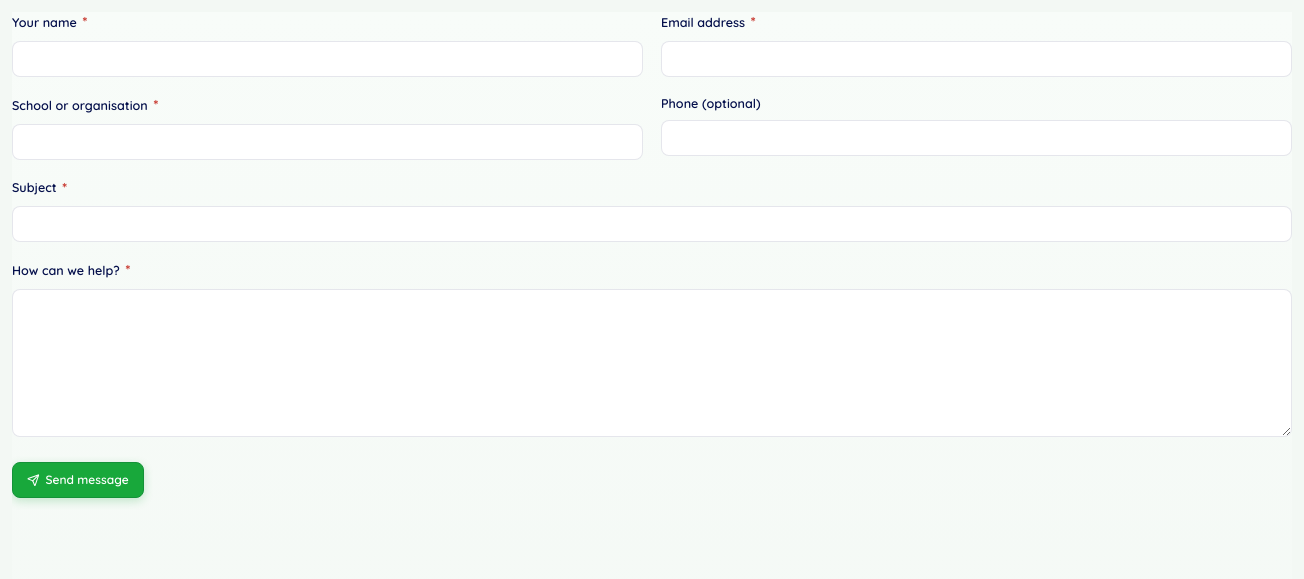
Test: ContactForm › submits entered values and resets after success
This screenshot has width=1304, height=579.
Type "Aroha Rangi" into the field labelled "Your name". click: (328, 59)
box: [12,41,643,77]
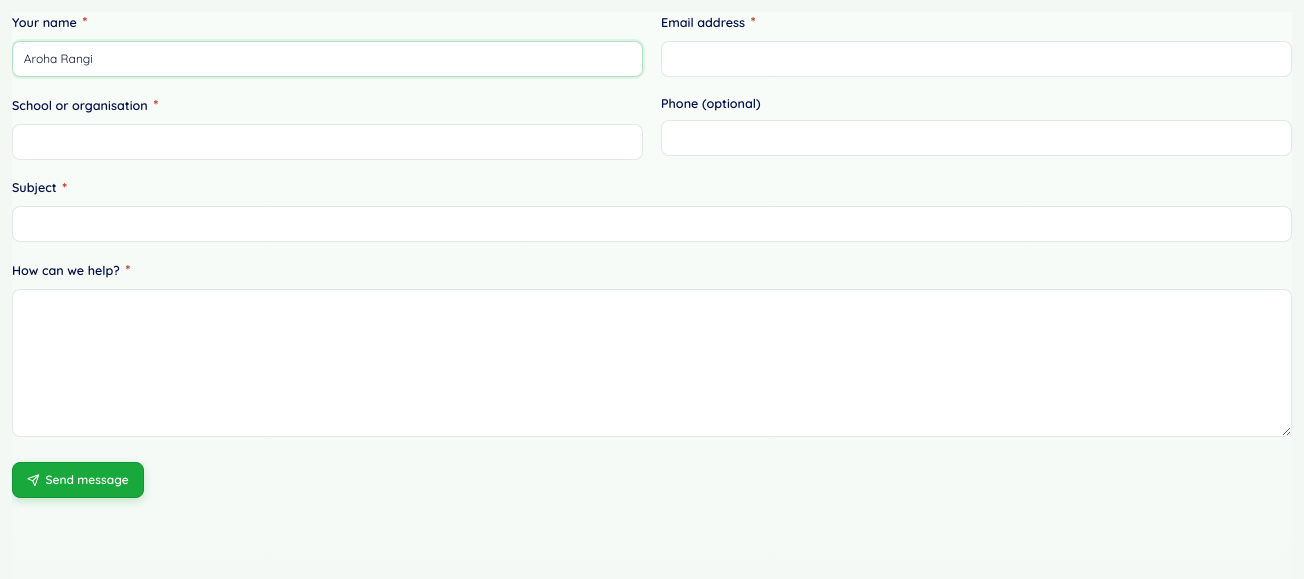
Type "aroha@example.nz" into the field labelled "Email address". click: (976, 59)
box: [661,41,1292,77]
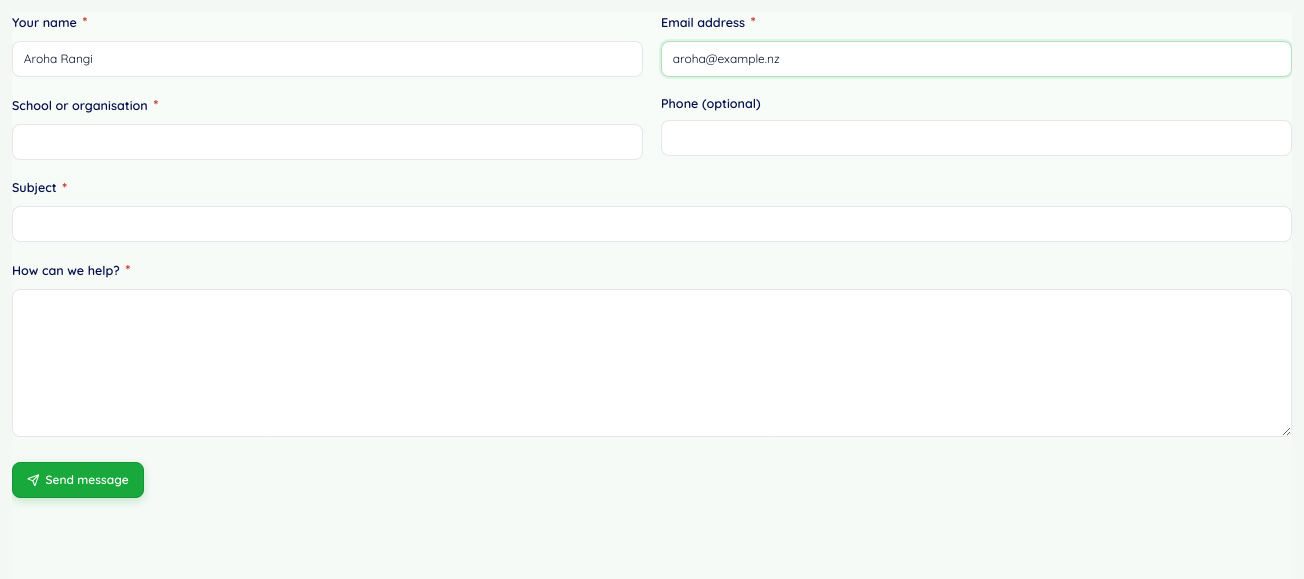
Type "Harbour College" into the field labelled "School or organisation". click: (328, 142)
box: [12,124,643,160]
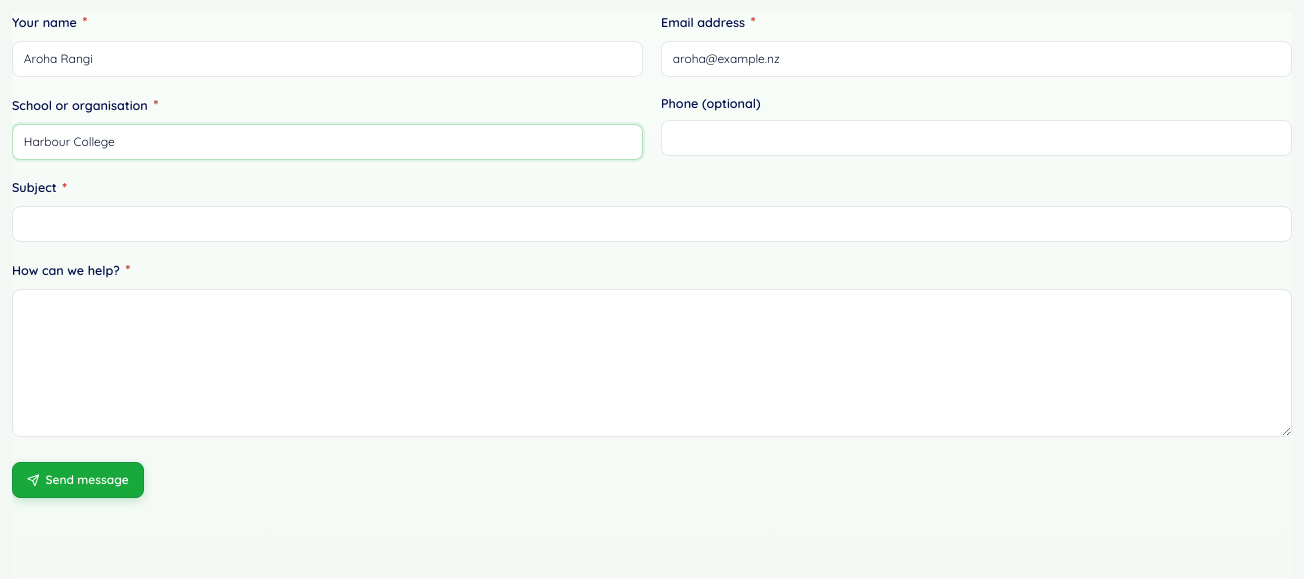
Type "Session question" into the field labelled "Subject". click: (652, 224)
box: [12,206,1292,242]
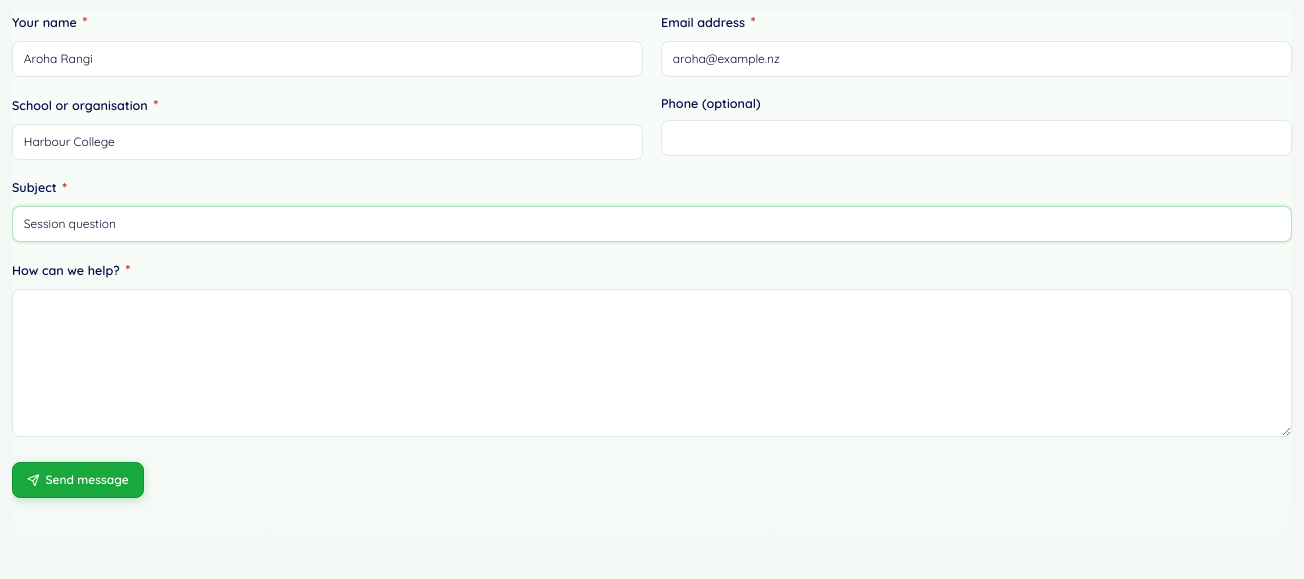
Type "Please tell me about your sessions." into the text box labelled "How can we help?". click: (652, 363)
box: [12,289,1292,437]
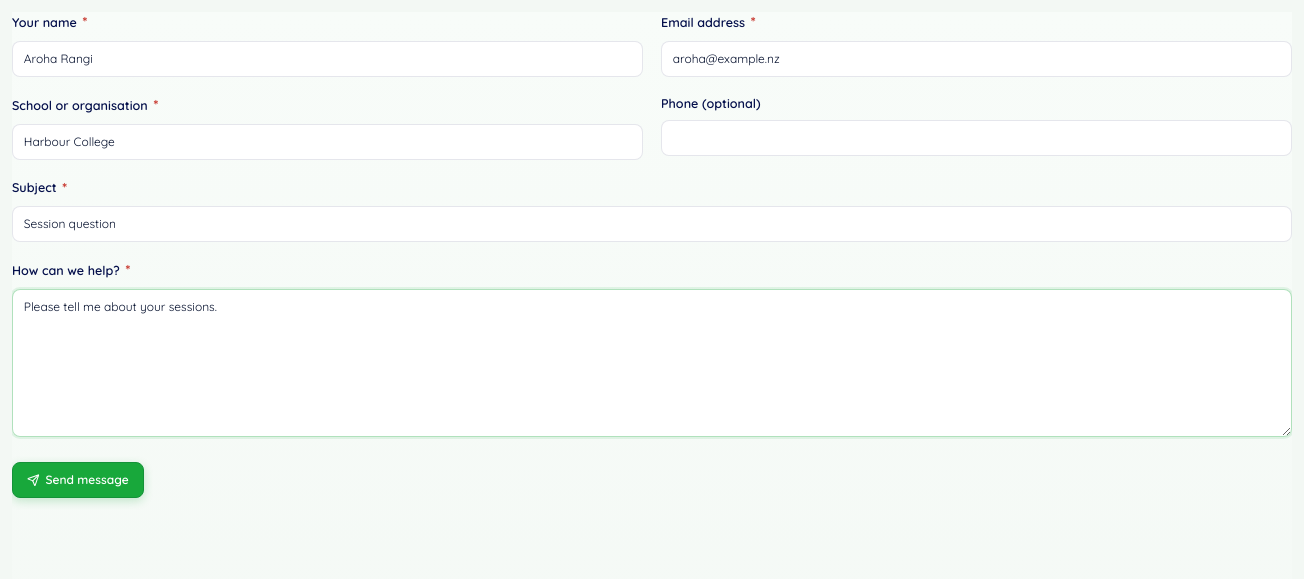
Click the button "Send message". click: click(78, 480)
box: [12,462,144,498]
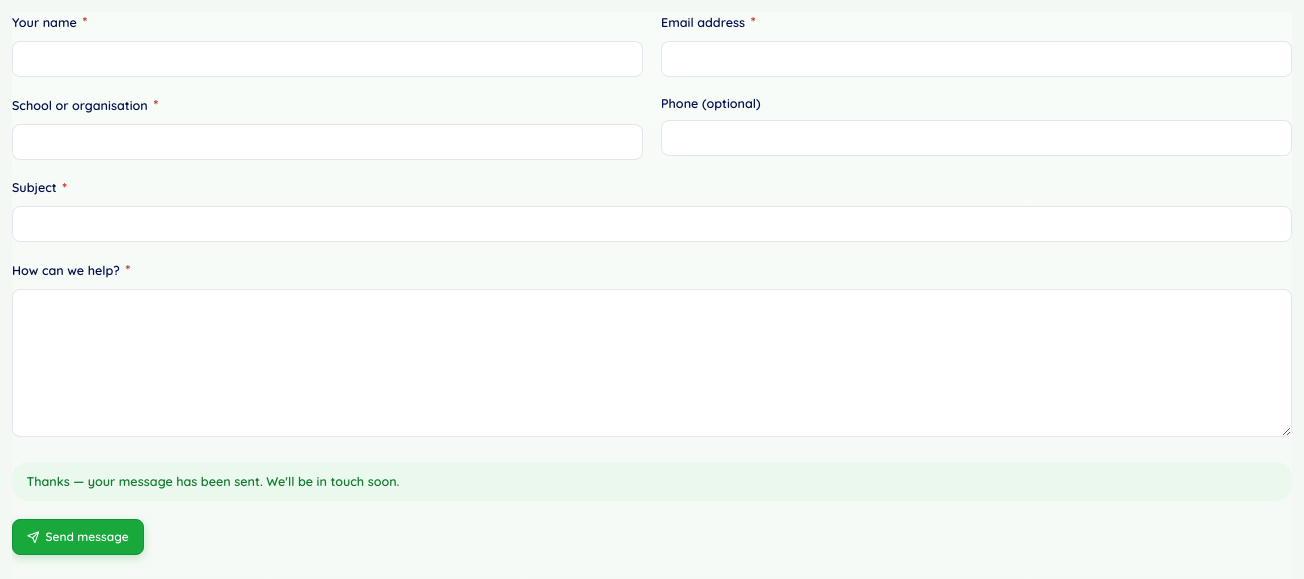
Expected: the message shows "message has been sent", [26,473,400,489]
Expected: the field labelled "Your name" is empty, [12,41,643,77]
